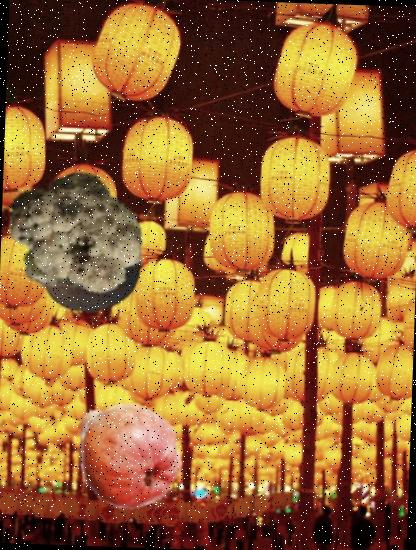Cauliflower: (0, 159, 149, 309)
Pear: (65, 394, 186, 514)
Walnut: (32, 203, 144, 315)
